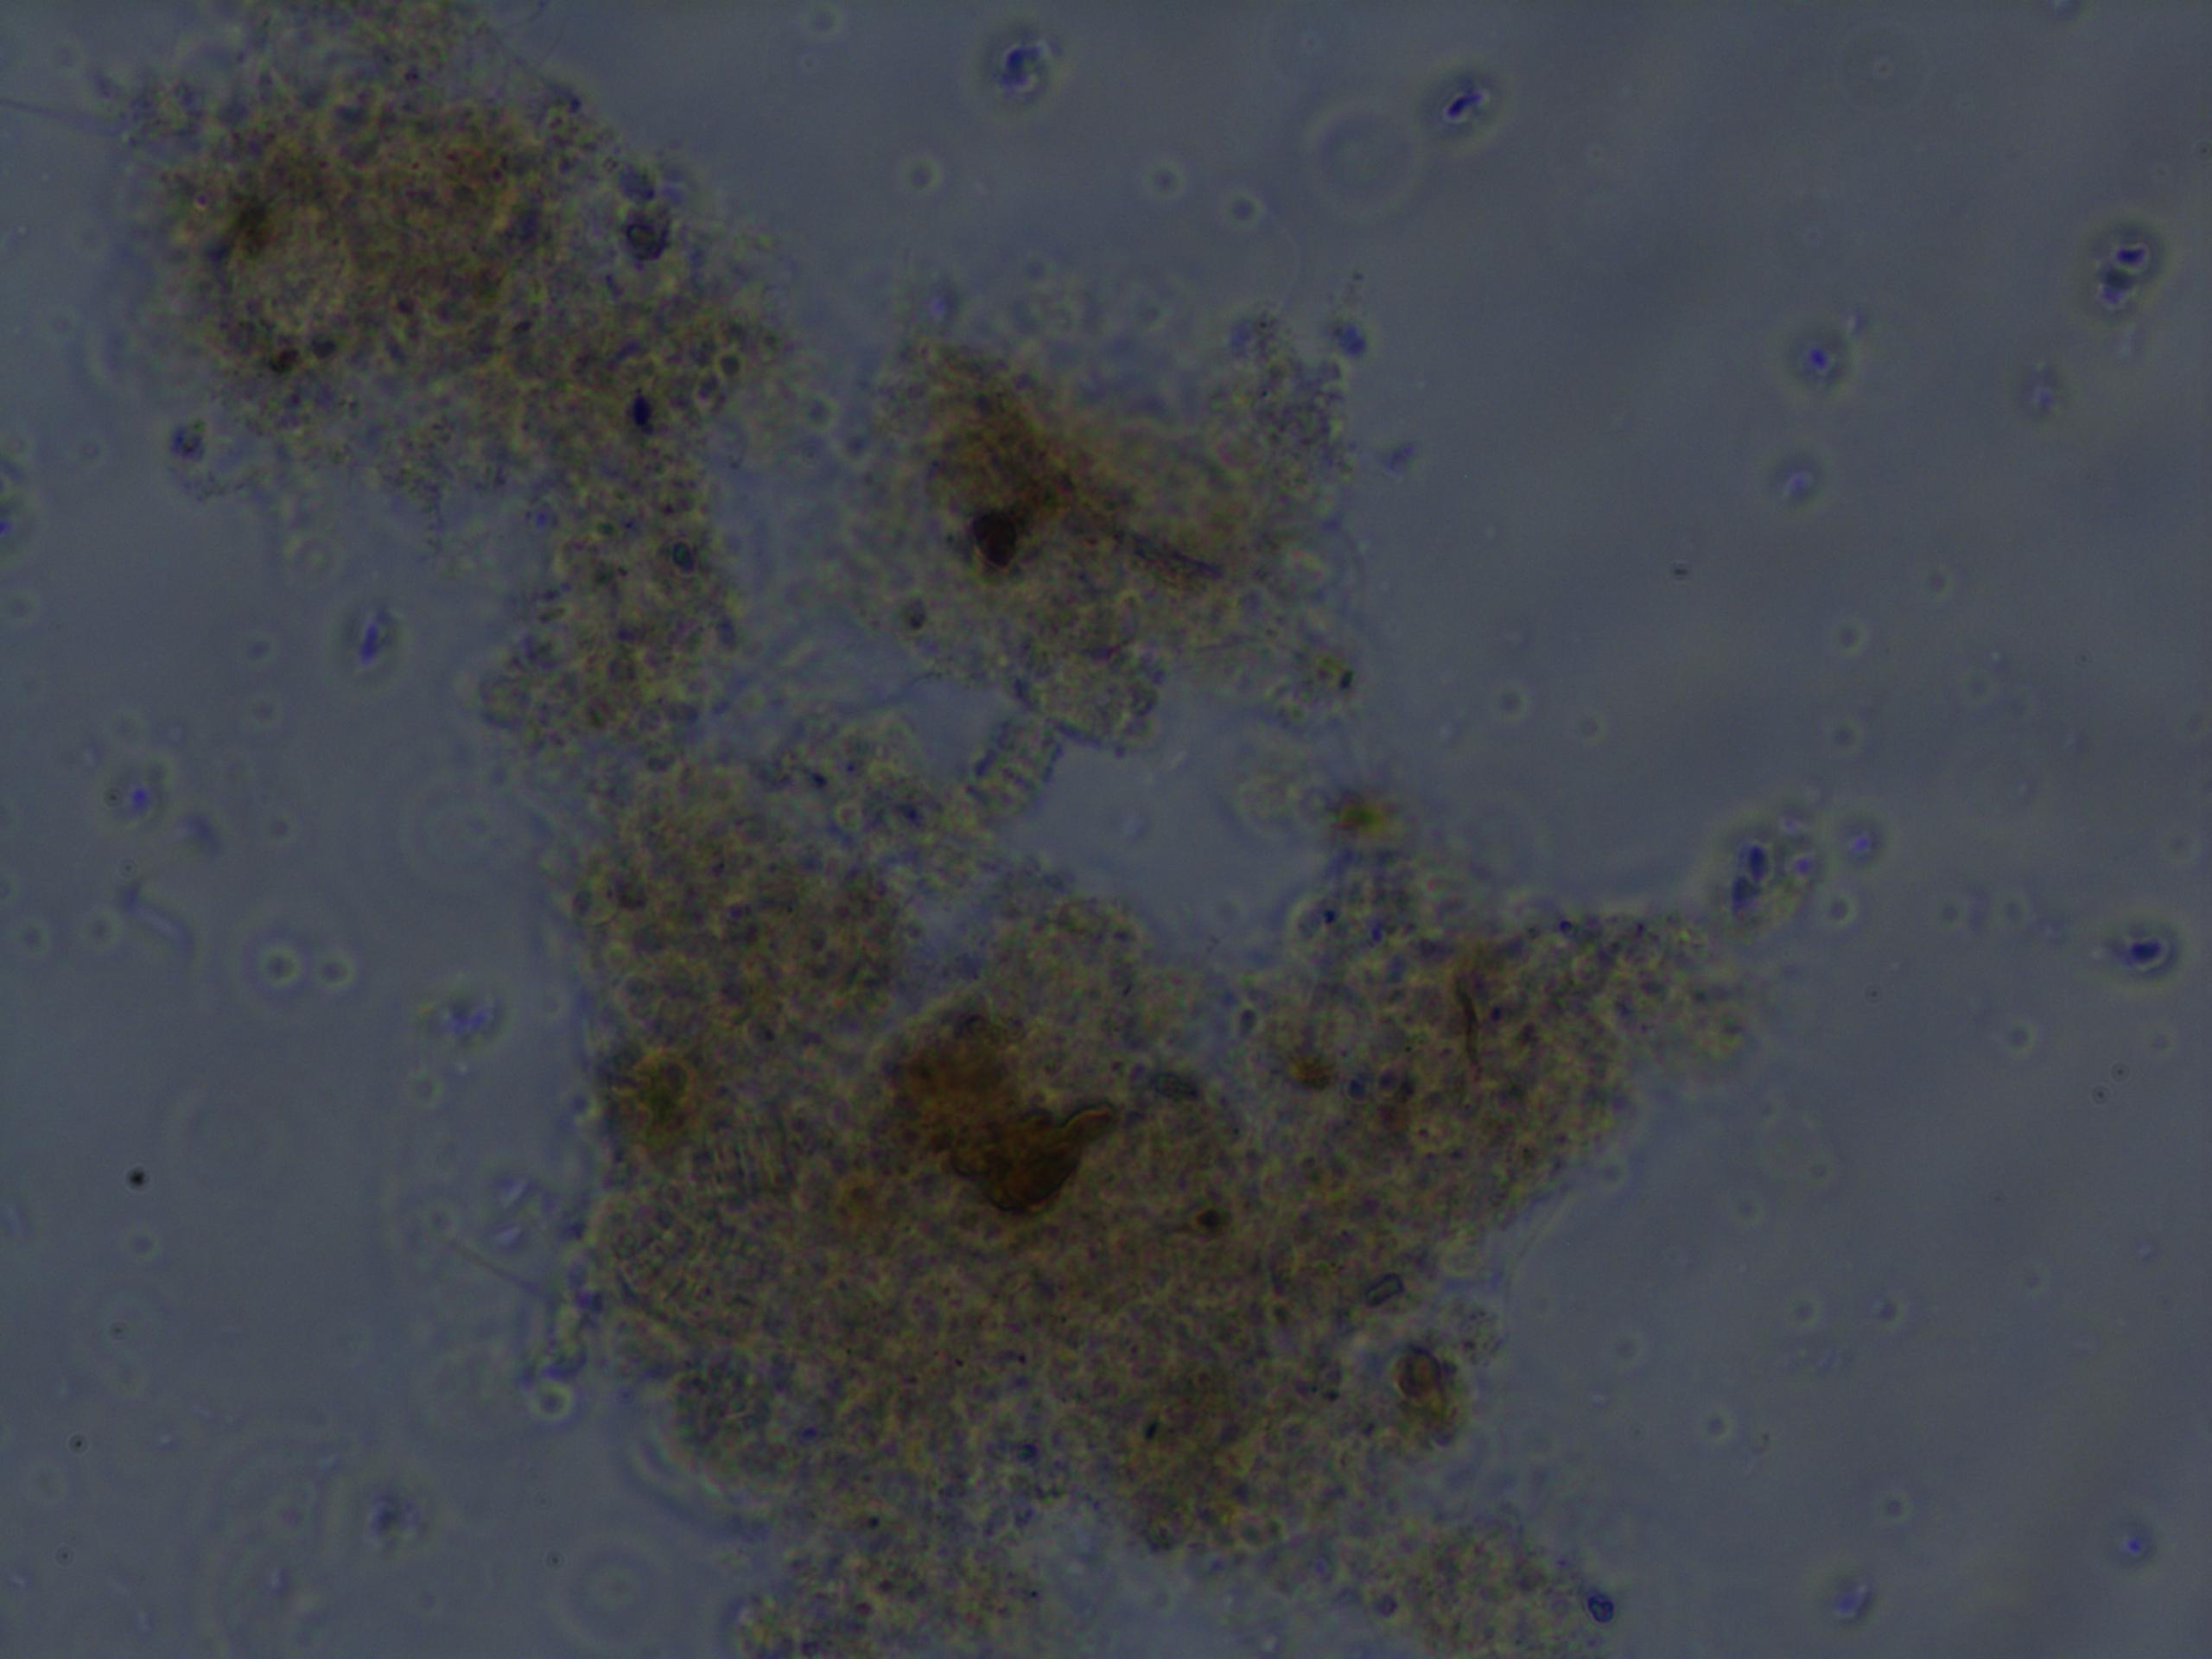open_floc: (110, 0, 1733, 1659)
